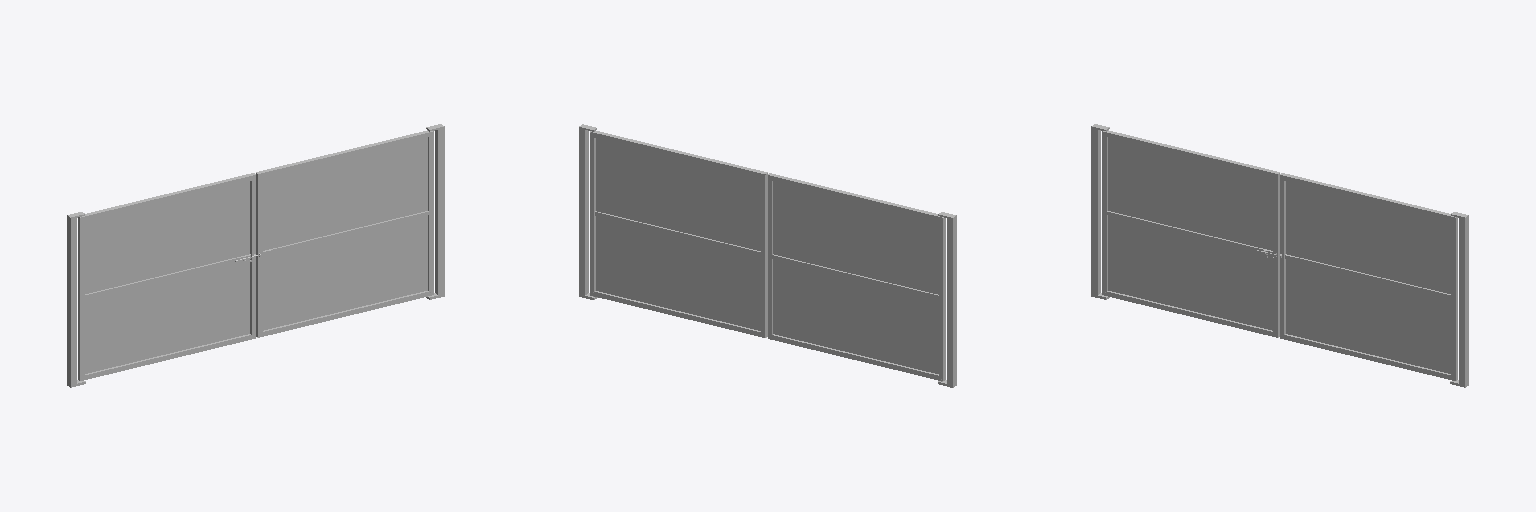
The model's file is Fence_entrance.obj.
3 renders of one model, left to right at view 1: azimuth 30°, elevation 25°; view 2: azimuth 150°, elevation 25°; view 3: azimuth 330°, elevation 25°, orthographic.
Visible parts, largest first — view 1: fence_chainlink_right, fence_chainlink, gate_1, gate_1_right, gate_static_1; view 2: fence_chainlink, fence_chainlink_right, gate_1_right, gate_1, gate_static_1; view 3: fence_chainlink_right, fence_chainlink, gate_1, gate_1_right, gate_static_1.
Boxes of the visible parts, <box> form: fence_chainlink_right: <box>263,138,427,330</box>; fence_chainlink: <box>85,181,249,373</box>; gate_1: <box>78,173,257,380</box>; gate_1_right: <box>256,130,433,337</box>; gate_static_1: <box>67,124,444,387</box>; fence_chainlink: <box>773,181,938,373</box>; fence_chainlink_right: <box>596,138,760,330</box>; gate_1_right: <box>590,131,767,337</box>; gate_1: <box>768,173,945,380</box>; gate_static_1: <box>579,124,956,387</box>; fence_chainlink_right: <box>1286,181,1450,373</box>; fence_chainlink: <box>1108,138,1272,330</box>; gate_1: <box>1102,130,1279,337</box>; gate_1_right: <box>1280,173,1457,380</box>; gate_static_1: <box>1091,124,1468,387</box>.
Size of the model in its own units: 182 by 79.01 by 3.29.